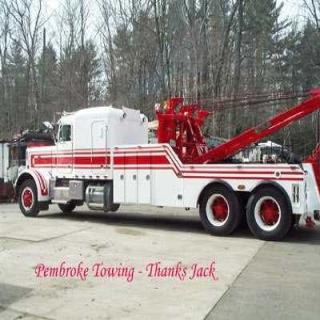Towing_truck: (12, 88, 318, 241)
